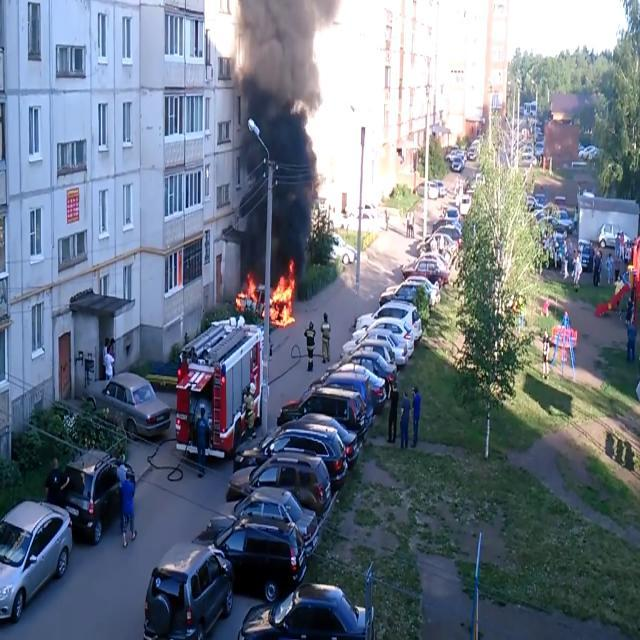Fire: (268, 263, 296, 325), (234, 270, 260, 316)
Smoke: (219, 0, 339, 296)
